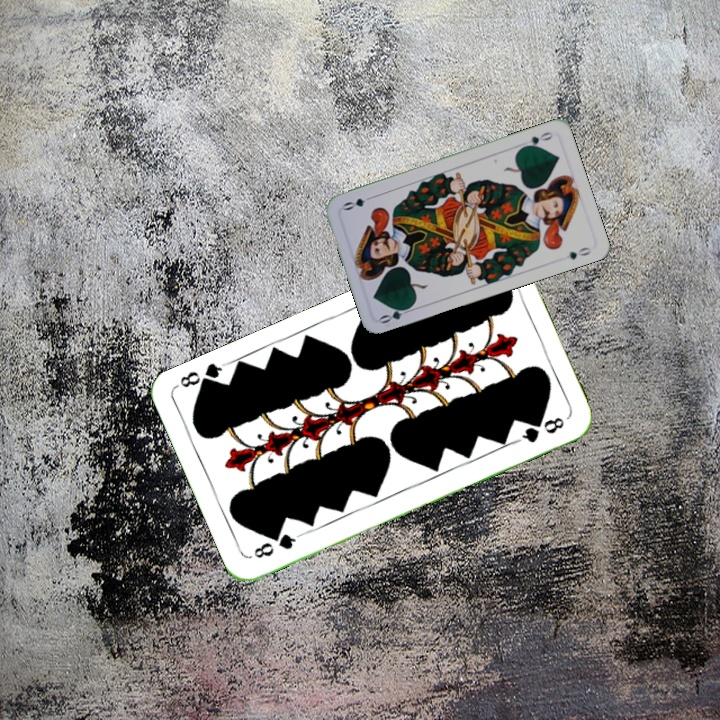G8: (249, 529, 303, 561)
GO: (376, 302, 416, 326), (518, 128, 555, 151)
